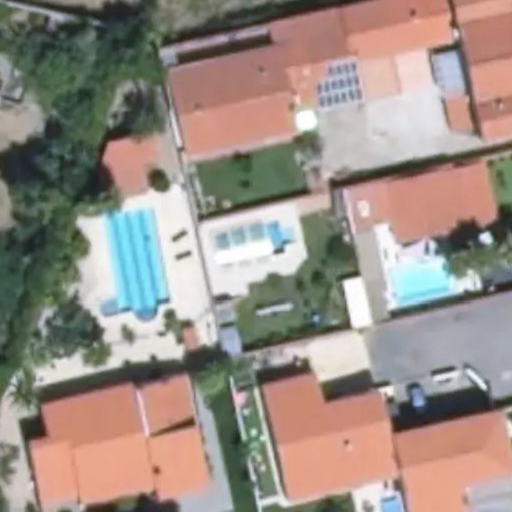pool: (208, 229, 303, 254)
